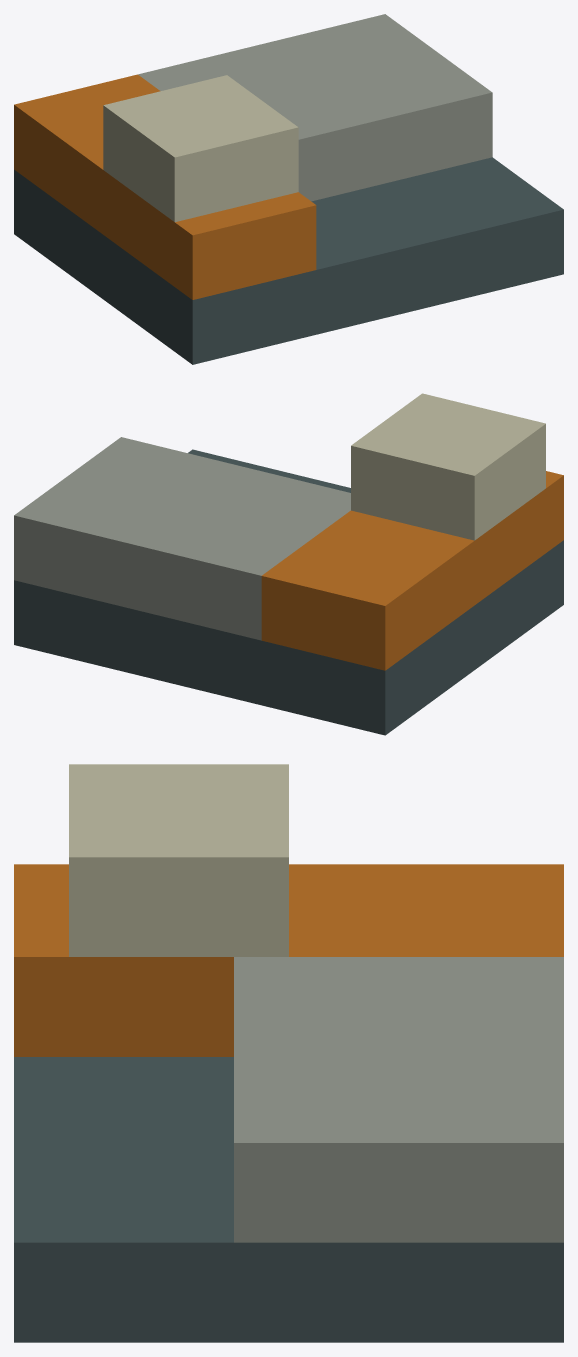
Rendered from le04.reference.notched-terrace.palette.glb.
3 views of the same model, one above another, from view 1: azimuth 30°, elevation 25°; view 2: azimuth 150°, elevation 25°; view 3: azimuth 270°, elevation 25° (orthographic). The views are drawn at different scales.
Visible parts, largest first — view 1: VW.foot.001, VW.right.001, VW.left.001, VW.cap.001; view 2: VW.right.001, VW.foot.001, VW.left.001, VW.cap.001; view 3: VW.foot.001, VW.right.001, VW.left.001, VW.cap.001.
Part boxes in pixels (bbox=[...]): VW.foot.001: bbox=[14, 157, 563, 364]; VW.right.001: bbox=[138, 14, 492, 201]; VW.left.001: bbox=[14, 74, 316, 299]; VW.cap.001: bbox=[103, 75, 298, 222]; VW.right.001: bbox=[14, 437, 350, 640]; VW.foot.001: bbox=[14, 449, 563, 735]; VW.left.001: bbox=[261, 471, 563, 670]; VW.cap.001: bbox=[351, 393, 545, 540]; VW.foot.001: bbox=[14, 1057, 563, 1342]; VW.right.001: bbox=[234, 957, 563, 1242]; VW.left.001: bbox=[14, 864, 563, 1056]; VW.cap.001: bbox=[69, 764, 288, 956].
Bounding box in the file's own units: 3 × 1.5 × 2.5.
2 materials, 2 textured.
